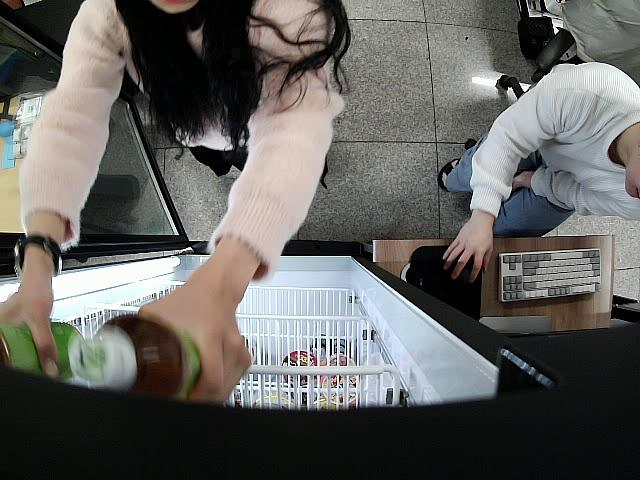00_hand: (137, 283, 251, 406), (0, 291, 60, 381), (443, 219, 494, 283)
19_17cha: (74, 317, 201, 401), (0, 324, 86, 381)
